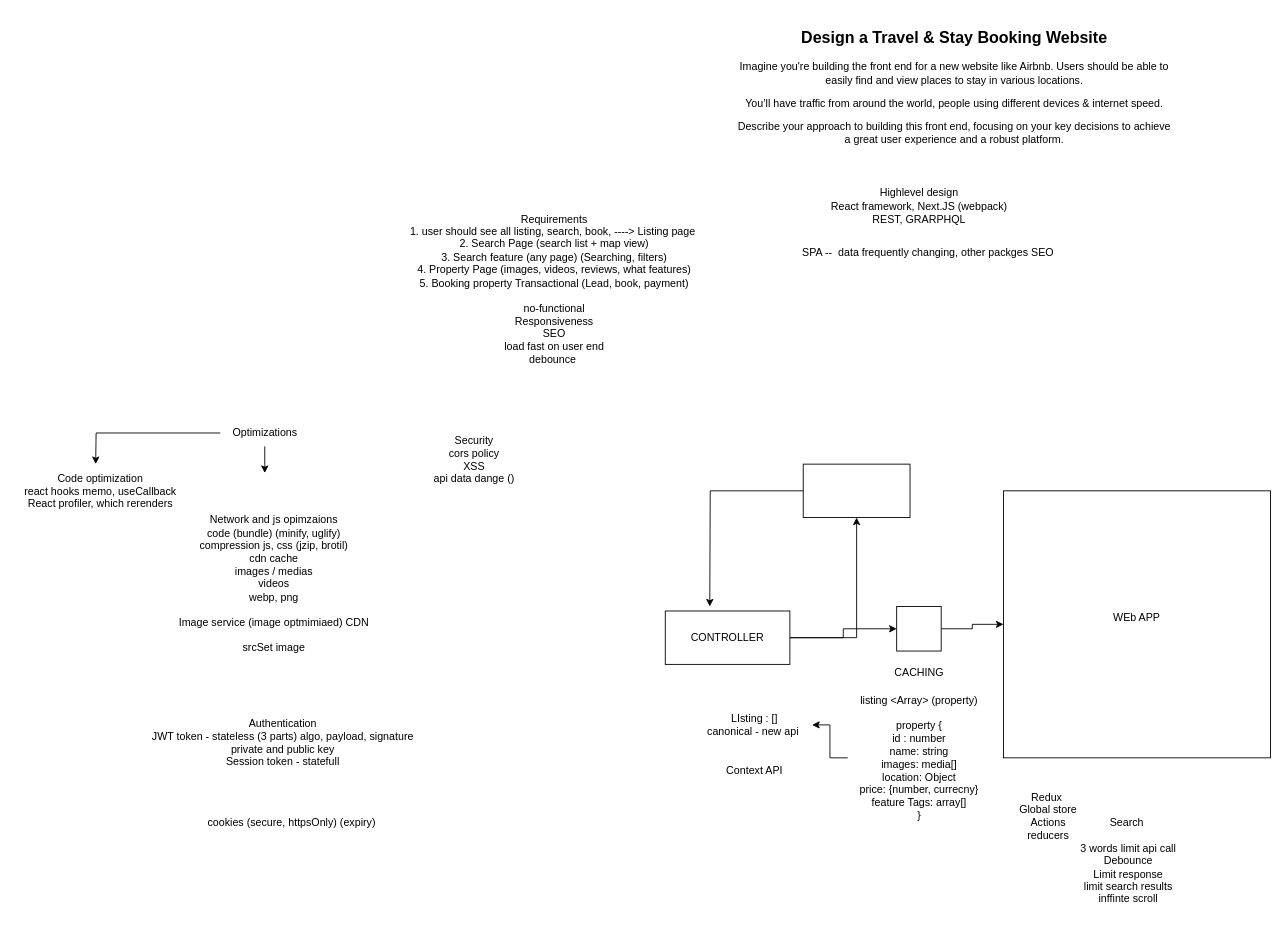
This 1286x941 diagram has some shape labels left out. Each missing label, with the centre of its shape:
API: the point at 856,490
Global state (Redux): the point at 918,628
